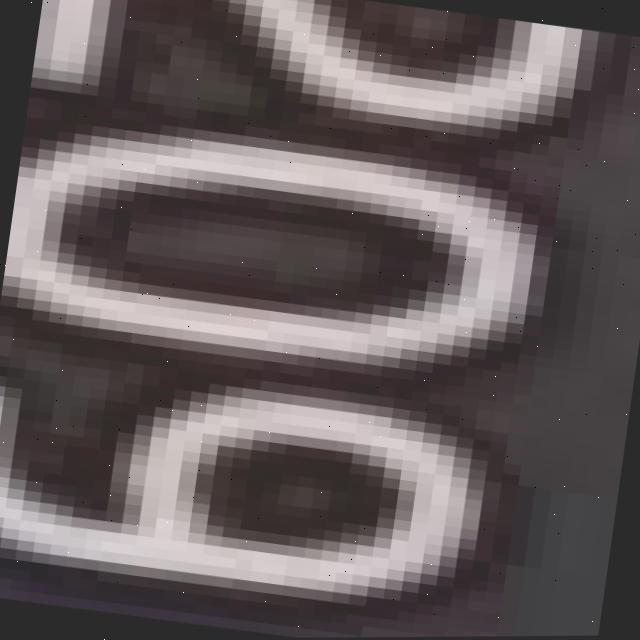character: (0, 93, 579, 412), (0, 340, 527, 637), (29, 0, 631, 169)
